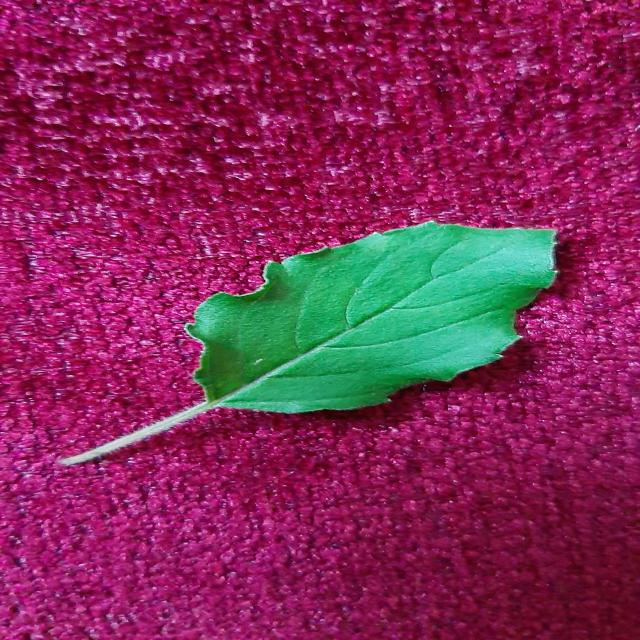tulsi: (60, 222, 555, 465)
